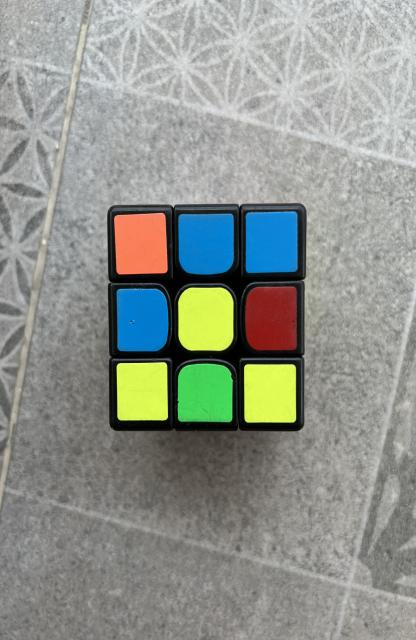Blue: (179, 214, 234, 275), (246, 211, 298, 274), (117, 289, 169, 351)
Green: (178, 364, 233, 422)
Orange: (114, 212, 168, 275)
Red: (245, 286, 297, 350)
Yellow: (178, 288, 234, 351), (244, 364, 296, 422), (117, 362, 168, 421)
